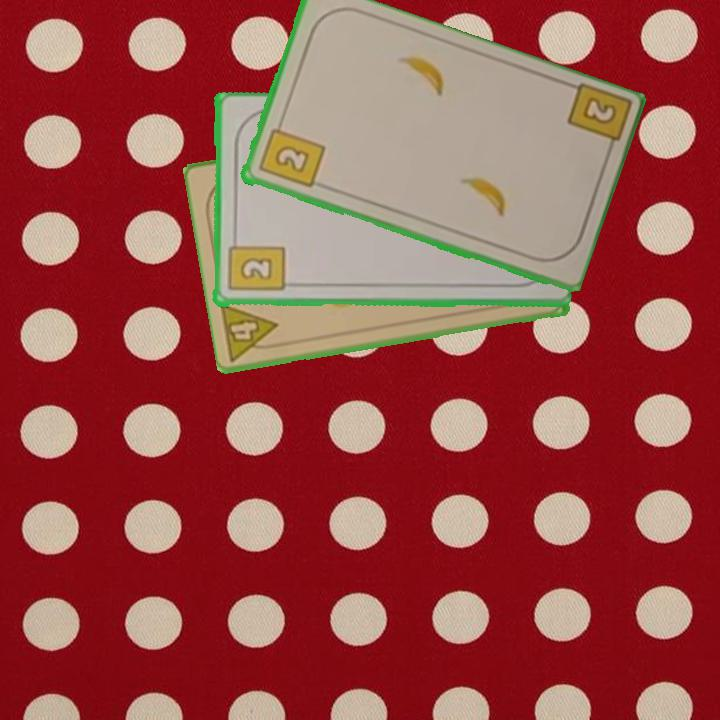2b: (255, 117, 327, 192), (563, 81, 630, 160), (224, 233, 286, 294)
4p: (217, 299, 287, 364)
